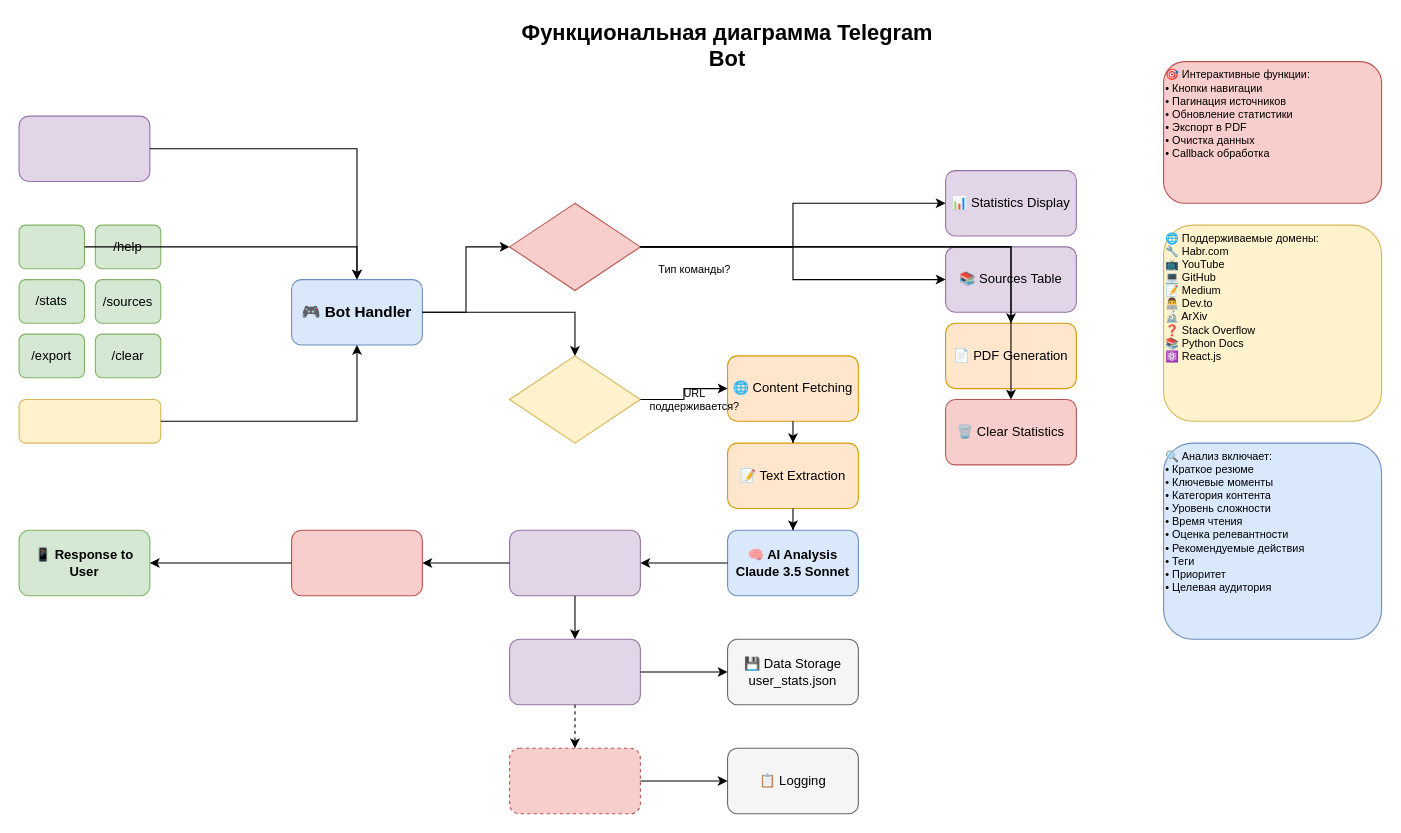
The diagram is 1401 pixels wide and 833 high, and some of its shapes have lost their labels. Each missing label, with the box of its shape:
/start: (18, 224, 84, 269)
Command Processing: (508, 202, 640, 290)
URL Validation: (508, 355, 640, 443)
⚠️ Error Handling: (508, 747, 640, 814)
👤 Пользователь: (18, 115, 150, 181)
💬 Message Formatting: (290, 529, 422, 596)
📈 Stats Update: (508, 638, 640, 705)
📊 Analysis Results: (508, 529, 640, 596)
🔗 URL Link: (18, 398, 161, 443)
